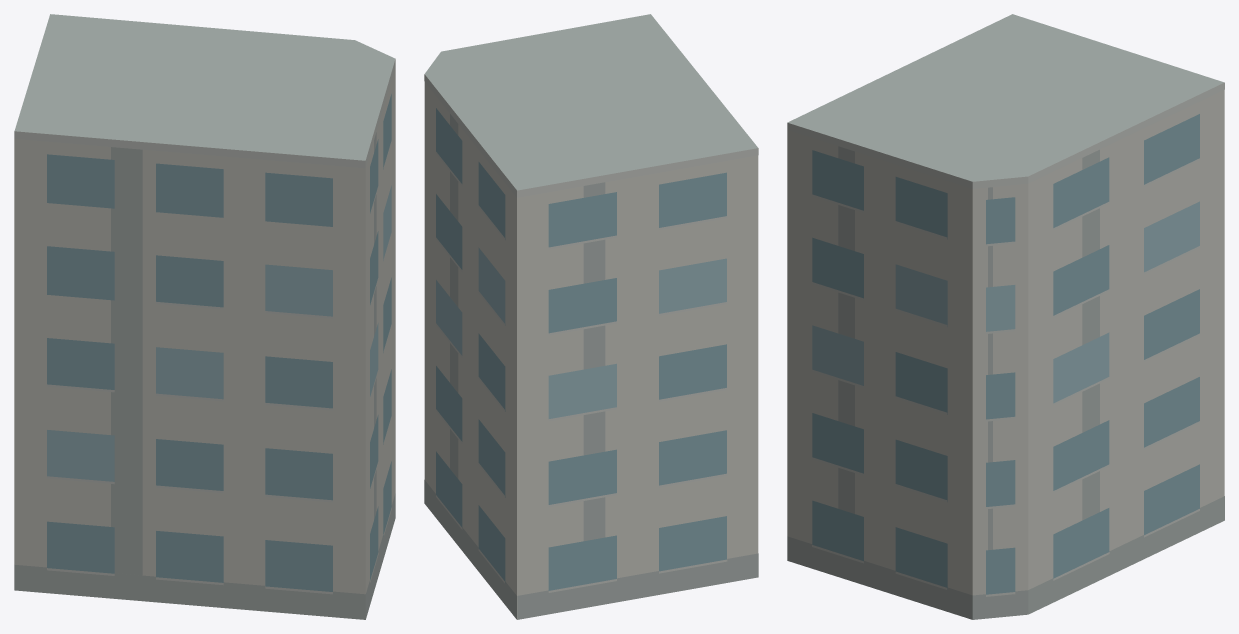
The model's file is survey-upis-32920261.glb.
3 views of the same model, side by side, from view 1: azimuth 30°, elevation 25°; view 2: azimuth 150°, elevation 25°; view 3: azimuth 270°, elevation 25° (orthographic). The views are drawn at different scales.
Parts seen in each view (by area): view 1: survey-upis-32920261.tmp; view 2: survey-upis-32920261.tmp; view 3: survey-upis-32920261.tmp.
Boxes of the visible parts, box(x1,y1,x2,y2) form: survey-upis-32920261.tmp: box(14, 14, 395, 619); survey-upis-32920261.tmp: box(424, 14, 758, 619); survey-upis-32920261.tmp: box(787, 14, 1224, 619).
Size of the model in its own units: 12 by 14.6 by 13.22.
